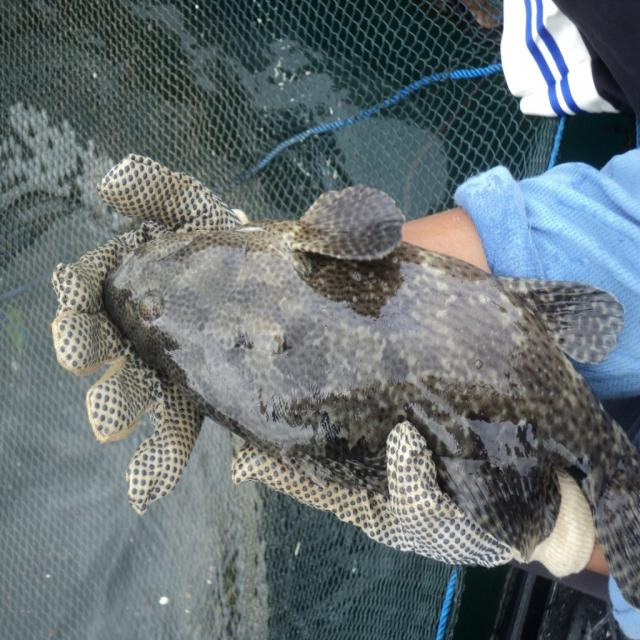grouper: (100, 179, 640, 613)
